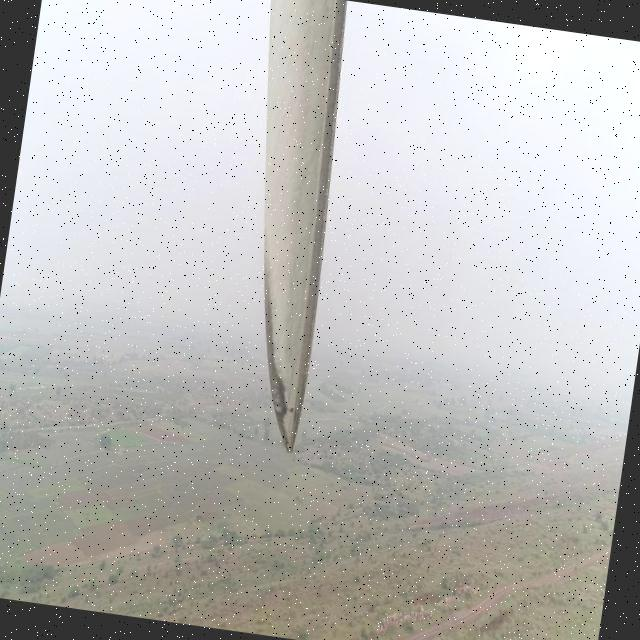Dirt: (262, 0, 348, 450)
Oil LEAKAGE: (261, 268, 295, 446)
Pin Hole: (284, 403, 298, 414)
